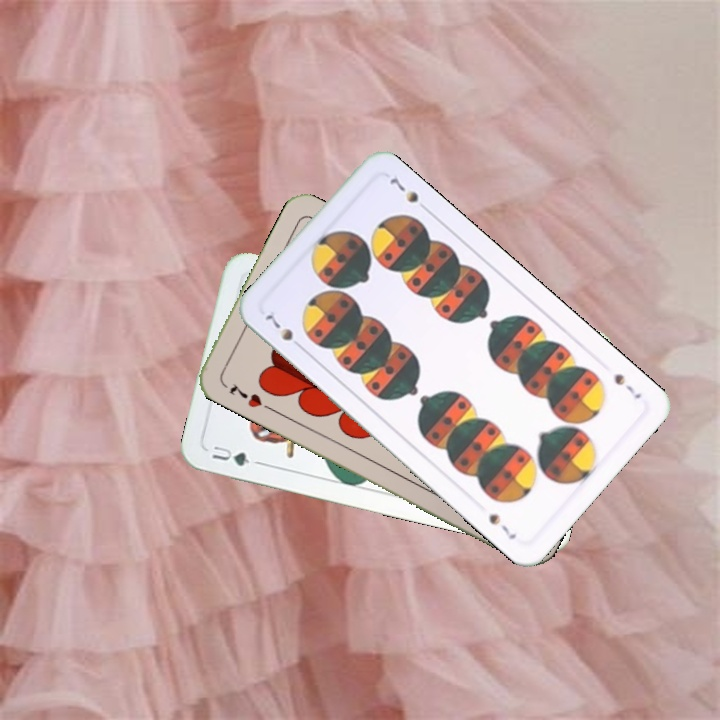GU: (208, 440, 262, 469)
H7: (225, 379, 265, 411)
S7: (261, 310, 307, 353), (610, 369, 644, 402)
